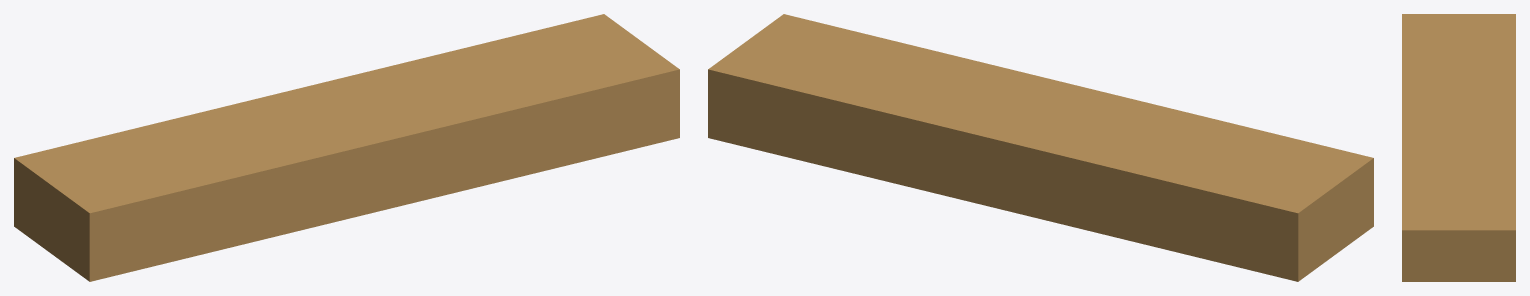
3 renders of one model, left to right at view 1: azimuth 30°, elevation 25°; view 2: azimuth 150°, elevation 25°; view 3: azimuth 270°, elevation 25°, orthographic. The views are drawn at different scales.
Visible parts, largest first — view 1: RUN-012-S00-NOG-02; view 2: RUN-012-S00-NOG-02; view 3: RUN-012-S00-NOG-02.
Part boxes in pixels (box(x1,y1,x2,y2)): RUN-012-S00-NOG-02: box(14, 14, 679, 281); RUN-012-S00-NOG-02: box(708, 14, 1373, 281); RUN-012-S00-NOG-02: box(1402, 14, 1515, 281).
Size of the model in its own units: 0.405 by 0.045 by 0.09.
